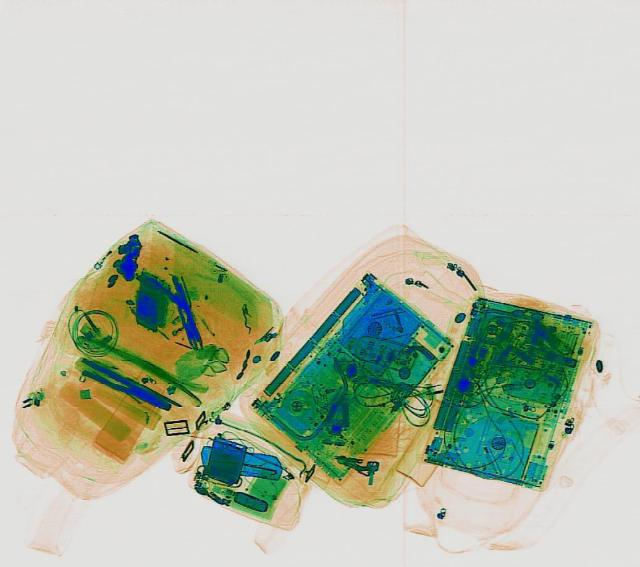Pliers: (70, 354, 174, 414)
